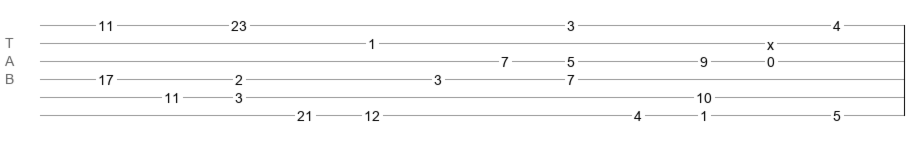0: (767, 54, 775, 64)
1: (368, 36, 376, 46), (700, 108, 708, 118)
10: (696, 90, 712, 100)
11: (98, 18, 114, 28), (164, 90, 180, 100)
12: (364, 108, 380, 118)
17: (98, 72, 114, 82)
2: (235, 72, 243, 82)
21: (297, 108, 313, 118)
23: (231, 18, 247, 28)
3: (235, 90, 243, 100), (434, 72, 442, 82), (567, 18, 575, 28)
4: (634, 108, 642, 118), (833, 18, 841, 28)
5: (567, 54, 575, 64), (833, 108, 841, 118)
7: (501, 54, 509, 64), (567, 72, 575, 82)
9: (700, 54, 708, 64)
x: (767, 37, 774, 45)
